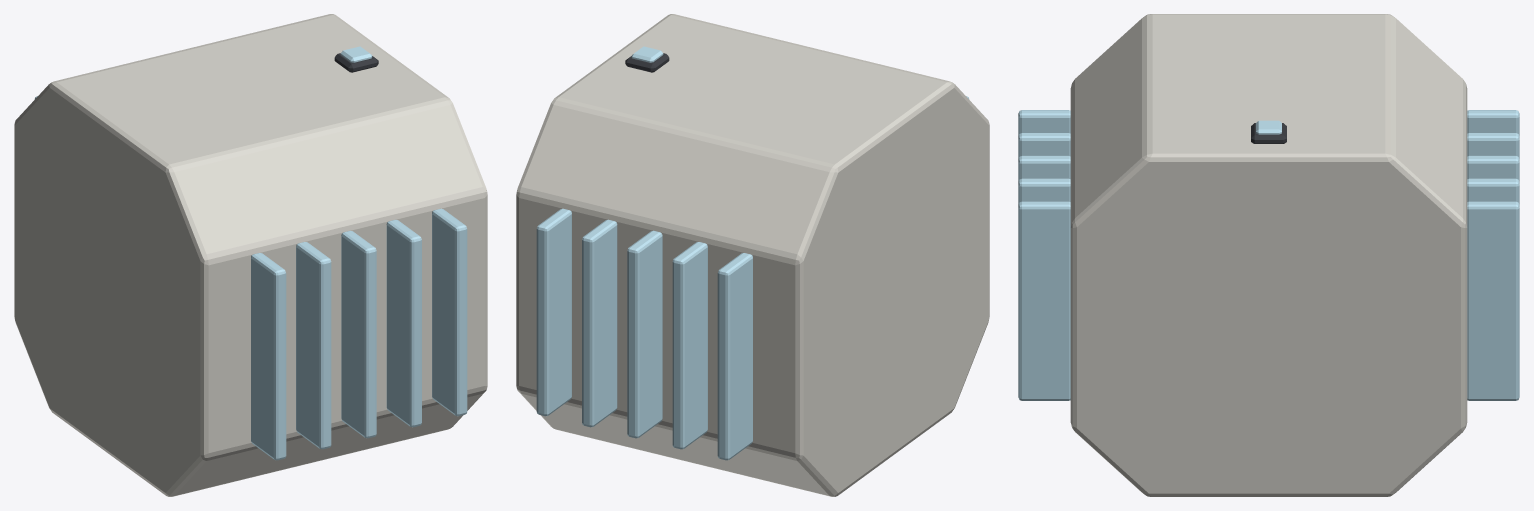
File: cargo-reefer.glb
The picture shows the model from 3 angles, left to right: view 1: azimuth 30°, elevation 25°; view 2: azimuth 150°, elevation 25°; view 3: azimuth 270°, elevation 25°; orthographic projection. The views are drawn at different scales.
Parts seen in each view (by area): view 1: cargo_reefer body; view 2: cargo_reefer body; view 3: cargo_reefer body.
Boxes of the visible parts, bbox=[...] form: cargo_reefer body: bbox=[14, 14, 487, 496]; cargo_reefer body: bbox=[516, 14, 989, 496]; cargo_reefer body: bbox=[1018, 14, 1519, 496].
Size of the model in its own units: 1.9 by 2.17 by 2.78.
